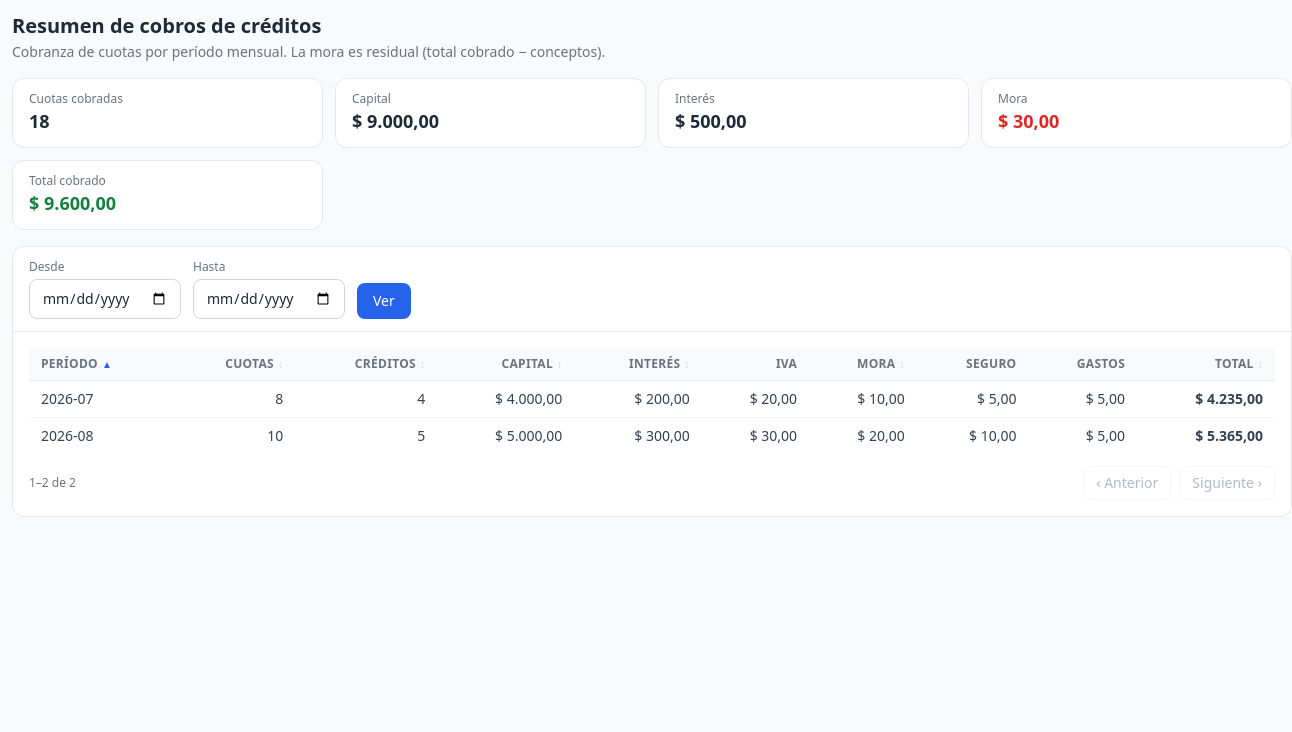
Test case: Resumen de cobros de créditos › Limpiar filtros recarga sin arrastrar el período viejo (H-206)
This screenshot has width=1292, height=732.
Check: the text "2026-08" is shown, box [29,418,172,454]
Step 1. Type "2026-01-01" into the date field labelled "Desde" → (105, 299), box [29,279,181,319]
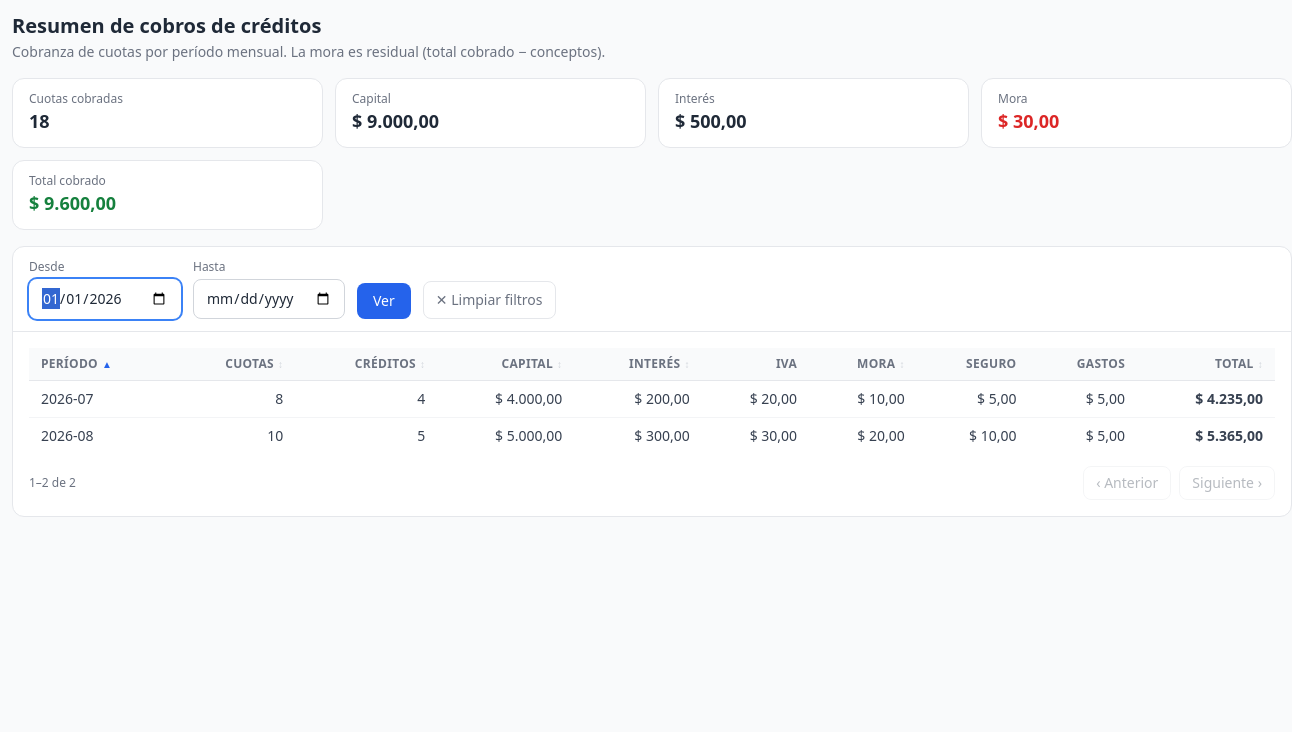
Step 2. Click the button "Ver" → click(384, 301), box [357,283,411,319]
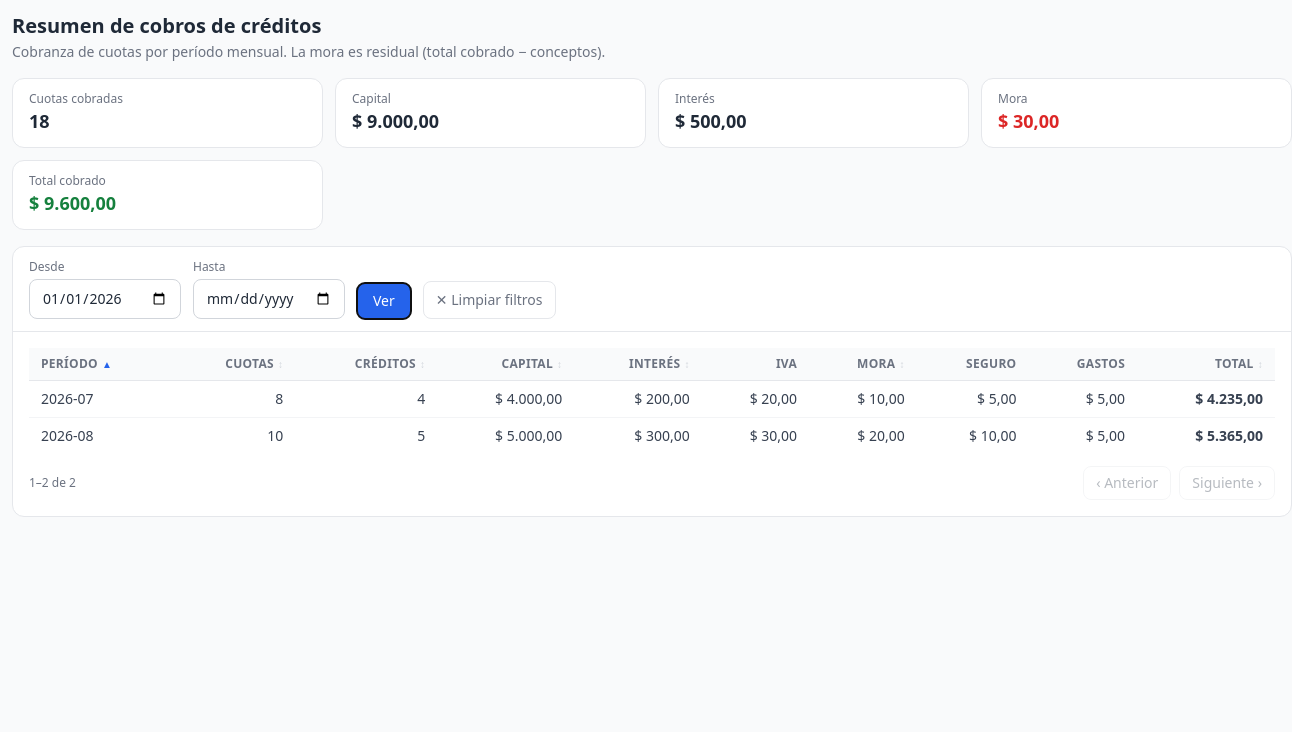
Step 3. Click the button "✕ Limpiar filtros" → click(489, 300), box [423,281,556,319]
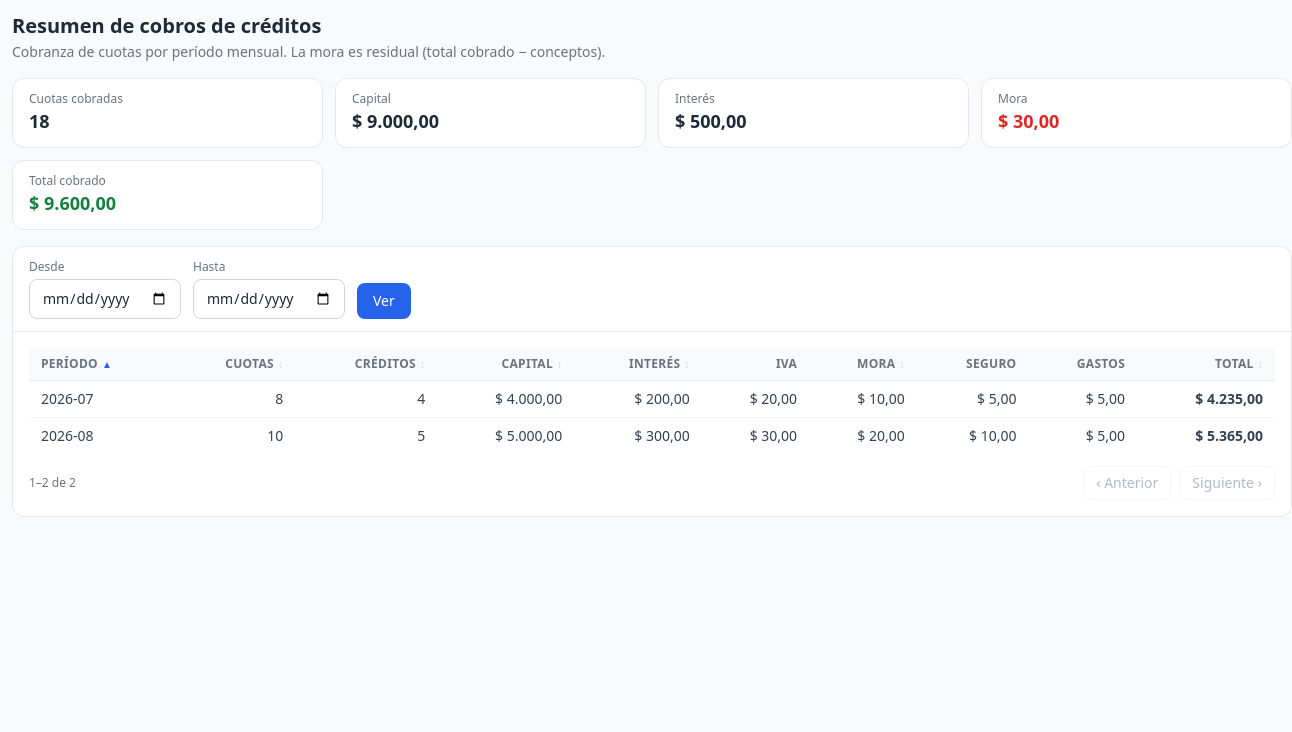
Check: the date field labelled "Desde" is empty, box [29,279,181,319]
